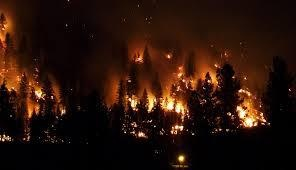fire: (110, 46, 263, 141), (0, 9, 65, 144), (233, 86, 268, 128)
